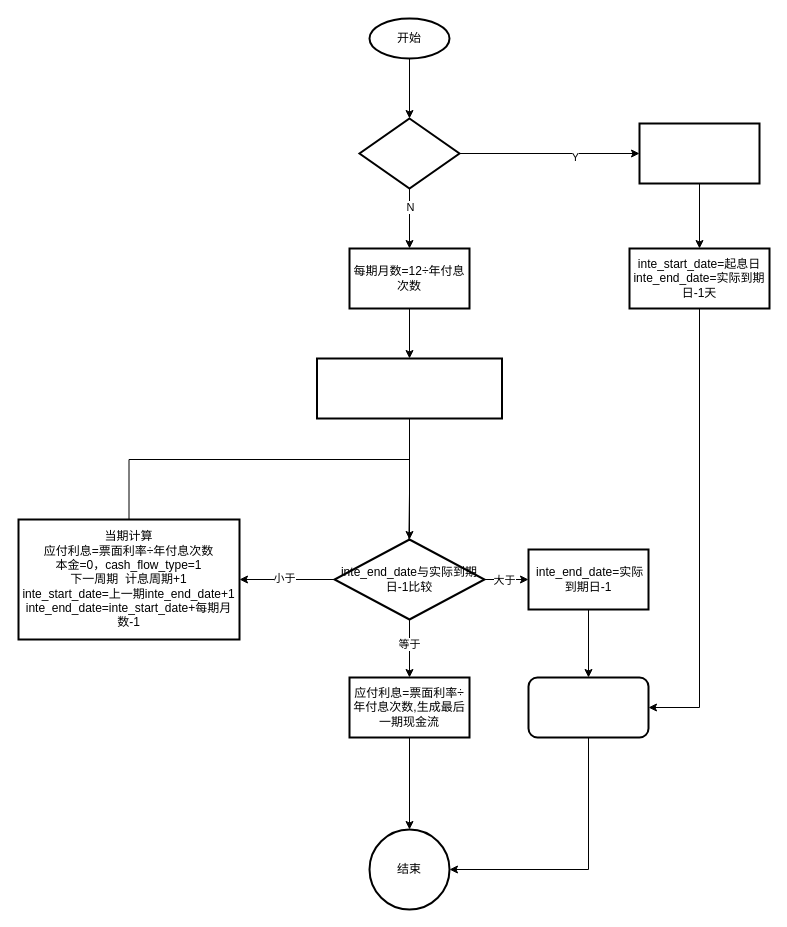
Image size: 787x927. Some labels were removed from this diagram. The shapes that lost their labels are listed below. From the top down, each one's box as (x1, y1, x2, y2) in pixels, then its label:
(358, 117, 460, 189): 年付息次数=0
(638, 122, 760, 184): 中间不付息值生成一条现金流
(316, 357, 502, 419): 第一期 inte_start_date=起息日inte_end_date=inte_start_date+每期月数-1
(527, 676, 649, 738): 根据息规则生成最后一期现金流
